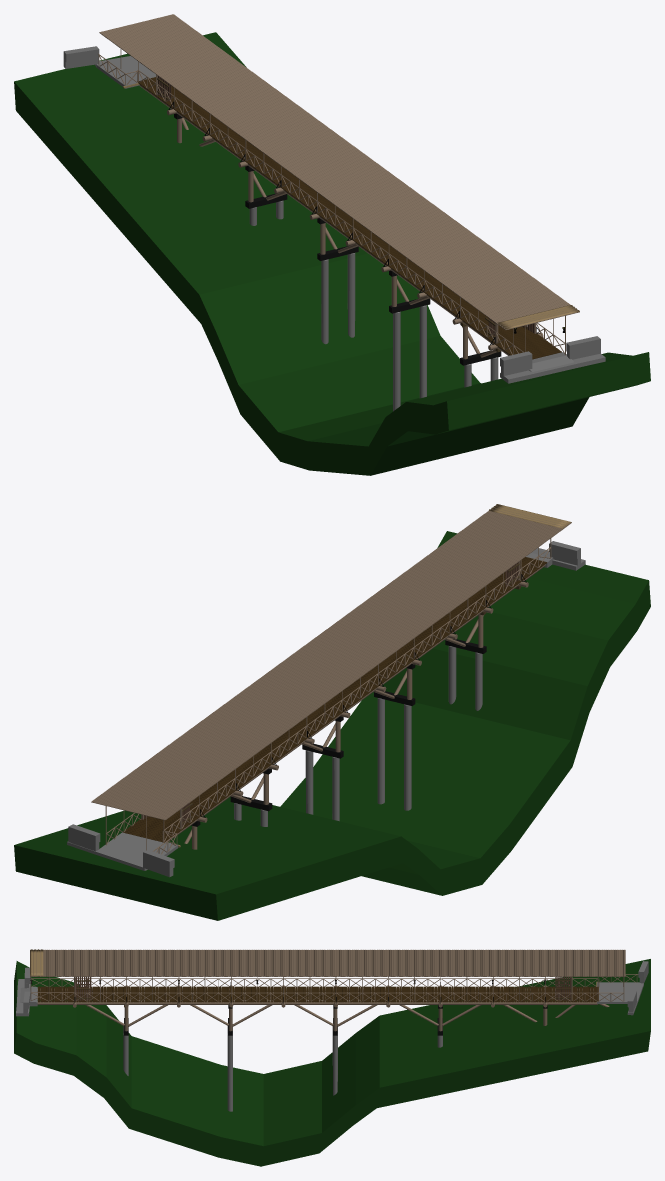
File: PteMadera.glb
3 views of the same model, one above another, from view 1: azimuth 30°, elevation 25°; view 2: azimuth 150°, elevation 25°; view 3: azimuth 270°, elevation 25° (orthographic). The views are drawn at different scales.
Visible parts, largest first — view 1: Cylinder.058; view 2: Cylinder.058; view 3: Cylinder.058.
Part boxes in pixels (box(x1,y1,x2,y2)): Cylinder.058: box(14, 14, 650, 475); Cylinder.058: box(14, 504, 650, 920); Cylinder.058: box(14, 949, 650, 1166).
Bounding box in the file's own units: 13.33 × 14.59 × 49.68.
